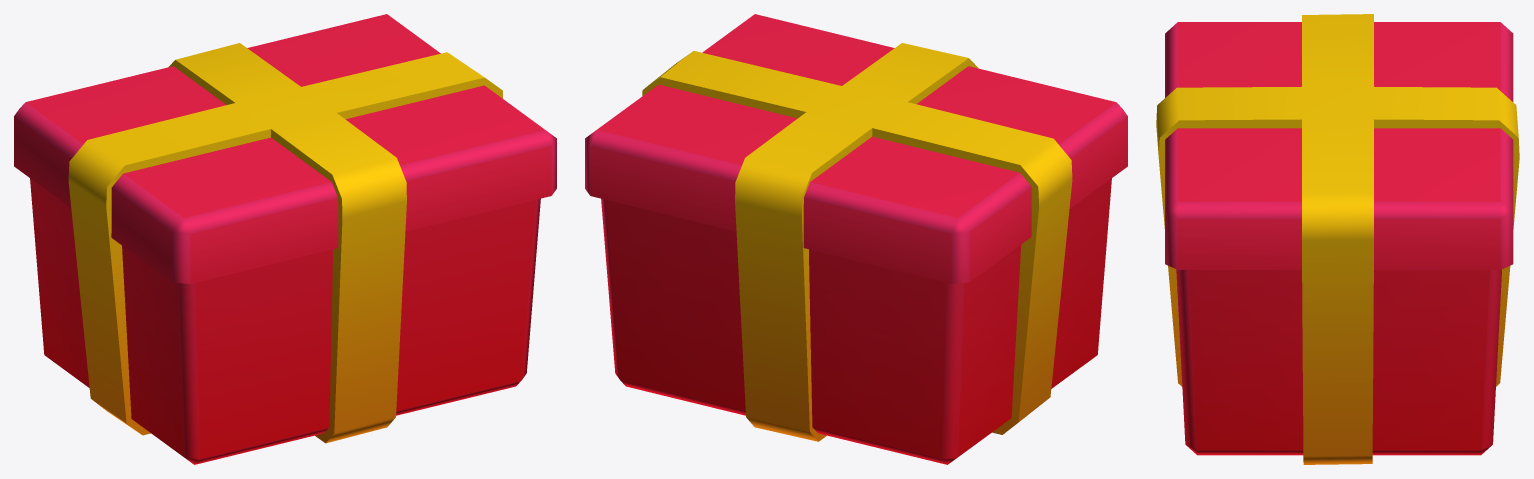
The model's file is giftbox_034.fbx.
The picture shows the model from 3 angles, left to right: view 1: azimuth 30°, elevation 25°; view 2: azimuth 150°, elevation 25°; view 3: azimuth 270°, elevation 25°; orthographic projection.
Visible parts, largest first — view 1: giftbox_034; view 2: giftbox_034; view 3: giftbox_034.
Boxes of the visible parts, x1,y1,x2,y2 form: giftbox_034: (14, 14, 556, 464); giftbox_034: (585, 14, 1127, 464); giftbox_034: (1156, 14, 1519, 464).
Bounding box in the file's own units: 285 × 220 × 188.
